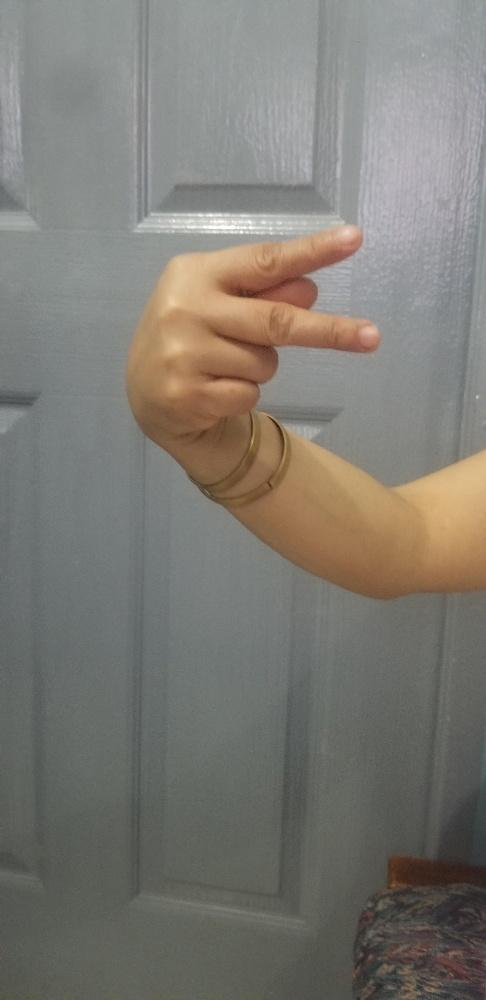k: (123, 222, 380, 442)
